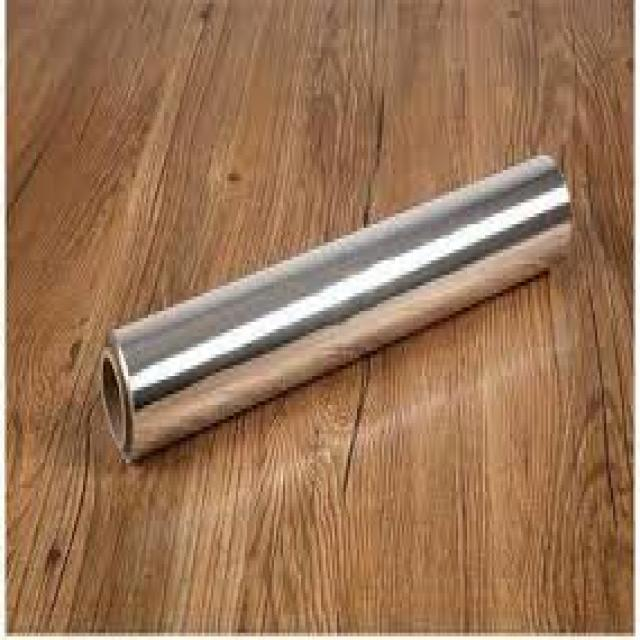metal: (99, 152, 568, 466)
